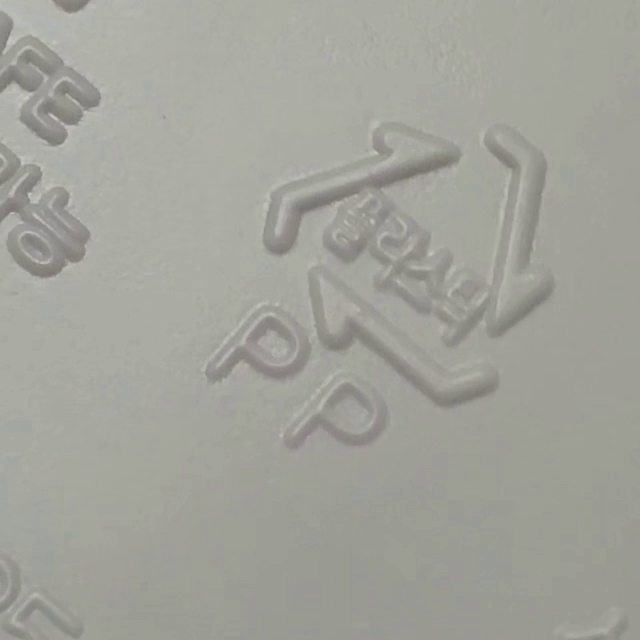Plastic: (261, 120, 553, 405)
